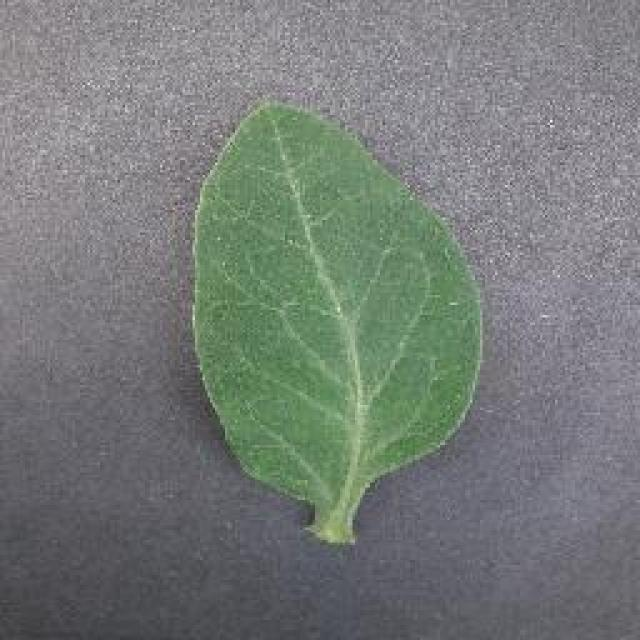Healthy: (165, 93, 487, 555)
